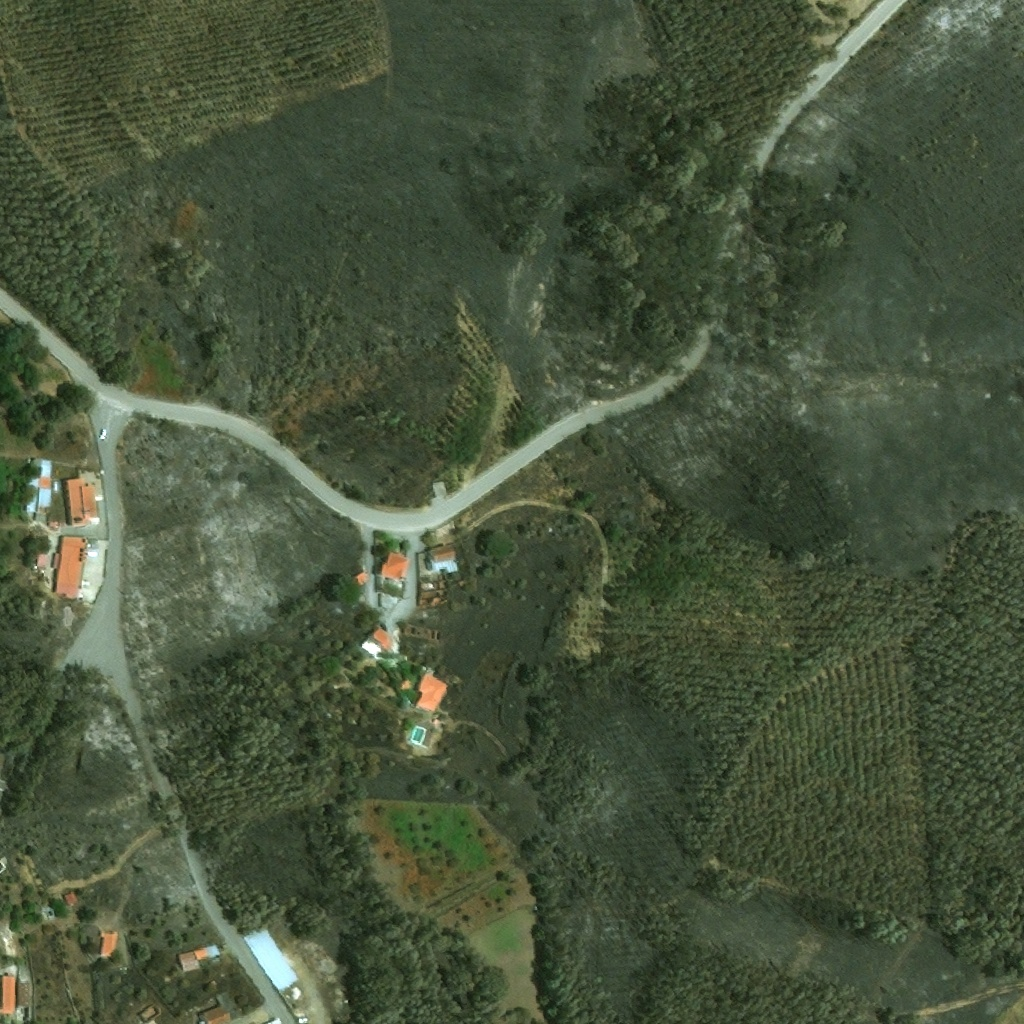0 no-damage: (244, 927, 300, 993), (52, 536, 88, 599), (63, 478, 97, 529), (24, 458, 52, 512), (416, 671, 452, 712), (424, 544, 458, 575), (379, 551, 410, 580), (0, 972, 17, 1015), (372, 624, 399, 651), (197, 1004, 233, 1023), (100, 930, 120, 956), (177, 950, 198, 973), (193, 945, 221, 962), (17, 982, 31, 1007), (354, 569, 372, 586), (63, 890, 79, 906), (431, 481, 445, 498), (33, 513, 48, 525), (401, 679, 412, 689), (39, 555, 48, 563)
3 destroyed: (419, 574, 451, 606), (138, 1004, 162, 1023)
4 un-classified: (0, 780, 9, 802), (39, 570, 44, 575)
